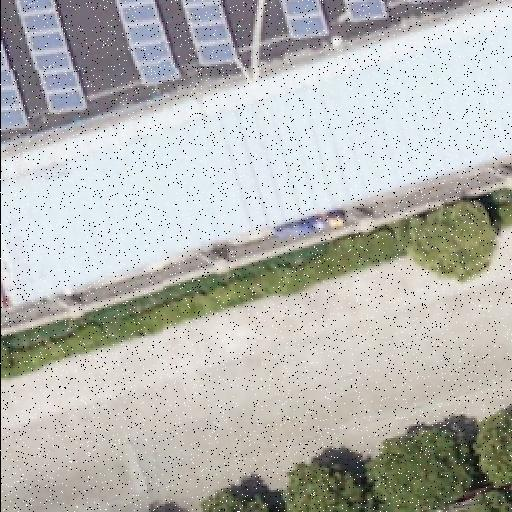solar-panel: (16, 0, 84, 116), (115, 0, 181, 90), (180, 0, 240, 72), (0, 36, 28, 132), (278, 0, 326, 40), (342, 0, 386, 26), (405, 0, 427, 8)
